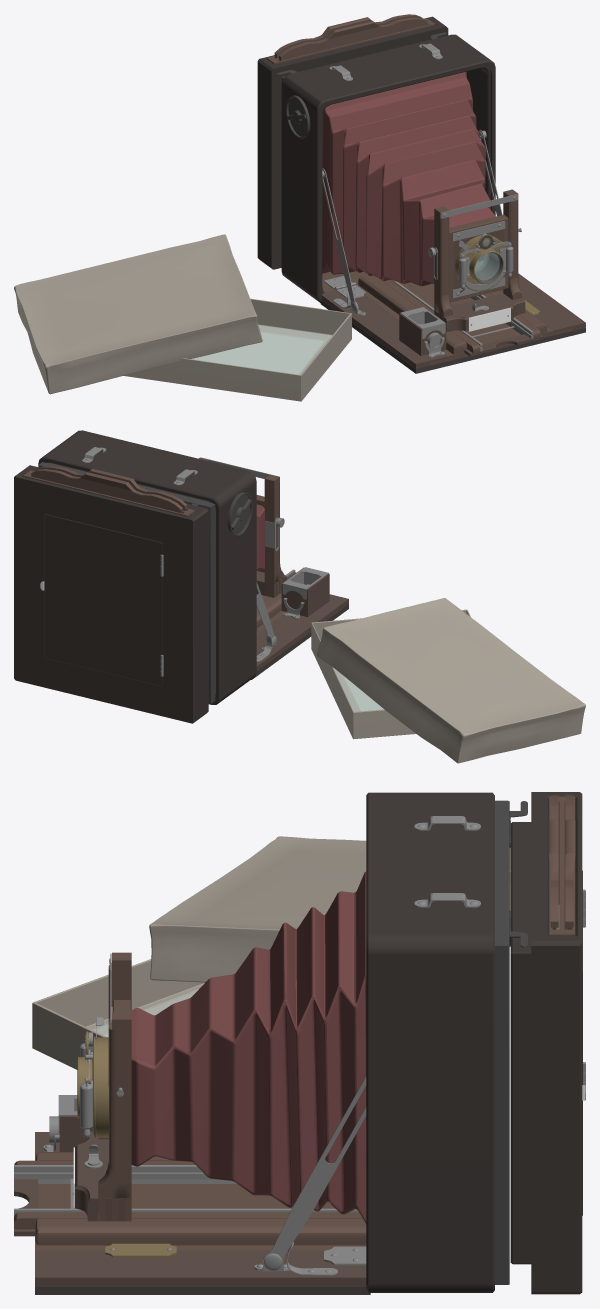
File: demoanim_step01.glb
3 views of the same model, one above another, from view 1: azimuth 30°, elevation 25°; view 2: azimuth 150°, elevation 25°; view 3: azimuth 270°, elevation 25° (orthographic). The views are drawn at different scales.
Visible parts, largest first — view 1: camera_body, glassplatebox_lid.002, glasplatebox_bottom.002, camera_back, glassplate1.002, glassplate.003, cam_platesleeve1, cam_platesleeve, cam_plateholder; view 2: camera_back, camera_body, glassplatebox_lid.002, glasplatebox_bottom.002, cam_platesleeve, cam_platesleeve1, glassplate1.002, cam_plateholder, glassplate.003; view 3: camera_body, camera_back, glassplatebox_lid.002, glasplatebox_bottom.002, cam_plateholder, cam_platesleeve, cam_platesleeve1.
Part boxes in pixels (x1,y1,x2,y2): camera_body: (277,32,585,373); glassplatebox_lid.002: (14,234,262,394); glasplatebox_bottom.002: (123,298,351,401); camera_back: (257,16,448,269); glassplate1.002: (193,324,331,374); glassplate.003: (195,332,323,374); cam_platesleeve1: (279,17,427,60); cam_platesleeve: (274,14,423,58); cam_plateholder: (267,18,435,64); camera_back: (14,465,208,723); camera_body: (38,430,348,704); glassplatebox_lid.002: (316,598,585,763); glasplatebox_bottom.002: (311,609,470,739); cam_platesleeve: (31,469,182,513); cam_platesleeve1: (35,466,187,510); glassplate1.002: (334,668,383,711); cam_plateholder: (23,470,195,516); glassplate.003: (343,676,382,710); camera_body: (14,792,527,1294); camera_back: (510,792,585,1294); glassplatebox_lid.002: (149,836,510,982); glasplatebox_bottom.002: (32,959,204,1069); cam_plateholder: (549,796,574,935); cam_platesleeve: (565,794,575,929); cam_platesleeve1: (548,794,558,929).
Bounding box in the file's own units: 22.97 × 10.11 × 13.59.
